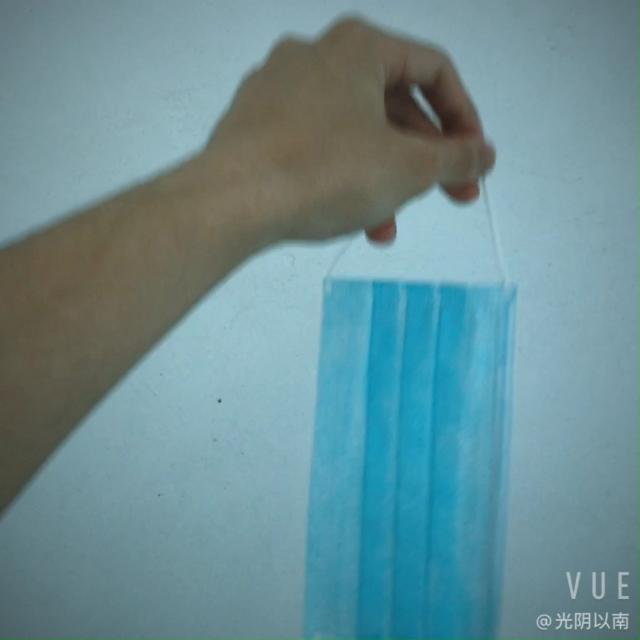face mask: (267, 255, 514, 640)
